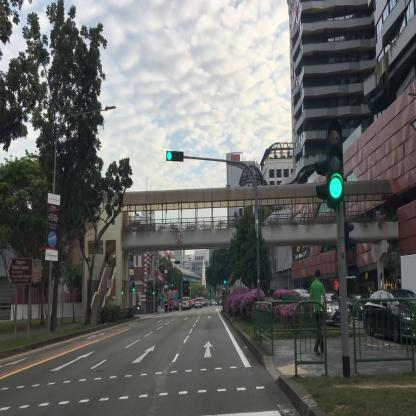green_traffic_light: (328, 121, 344, 198), (166, 150, 184, 162)
